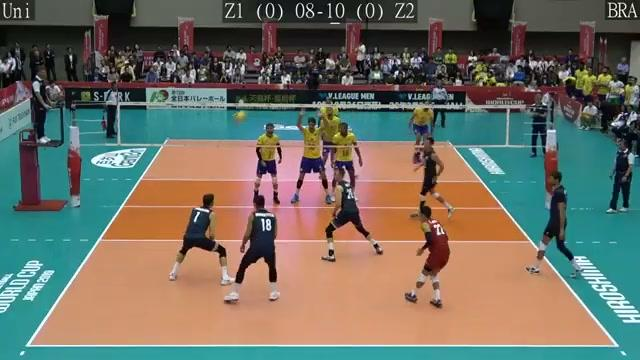ball: (231, 109, 247, 121)
